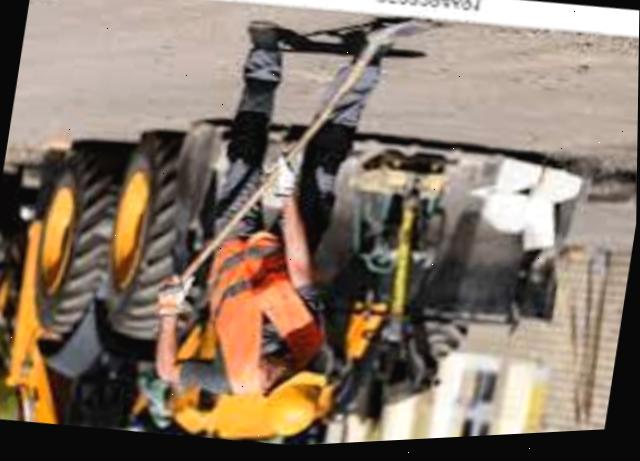helmet: (242, 358, 343, 448)
vest: (159, 201, 341, 430)
